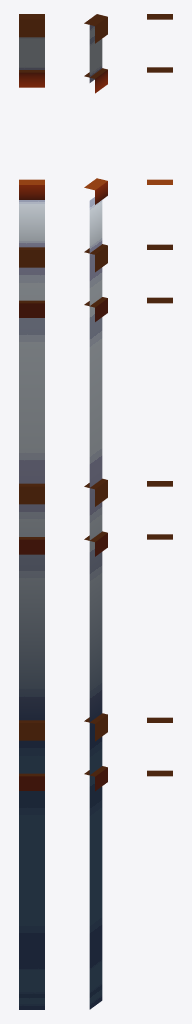
3 views of the same model, side by side, from view 1: azimuth 90°, elevation 25°; view 2: azimuth 150°, elevation 25°; view 3: azimuth 270°, elevation 25° (orthographic).
Size of the model in its own units: 0.5 by 42 by 1.
2 materials, 2 textured.
